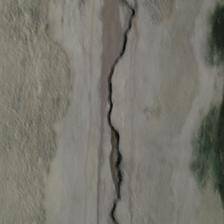Crack: (104, 4, 141, 222)
